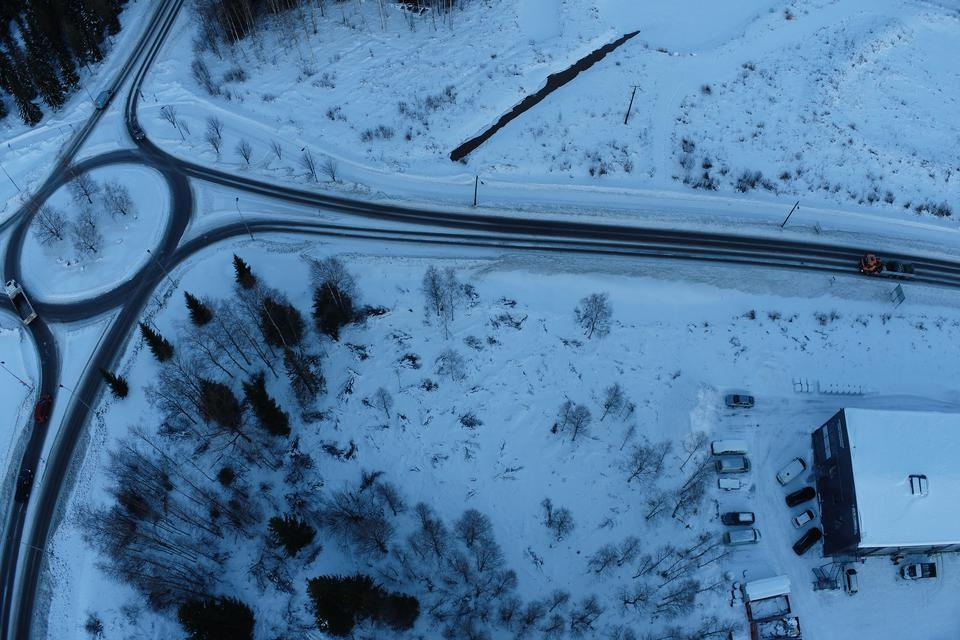roundabout: (0, 111, 208, 350)
